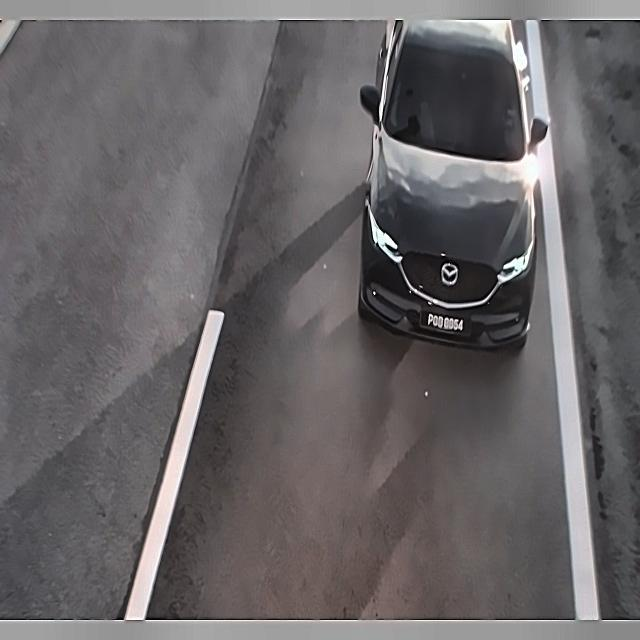car: (418, 298, 475, 342)
